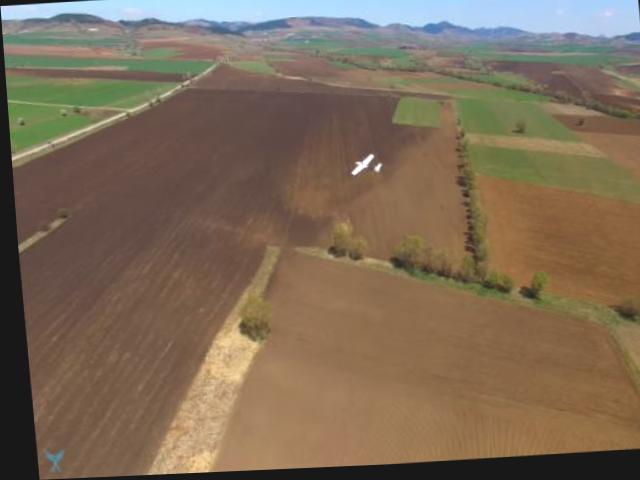uav: (345, 151, 387, 183)
